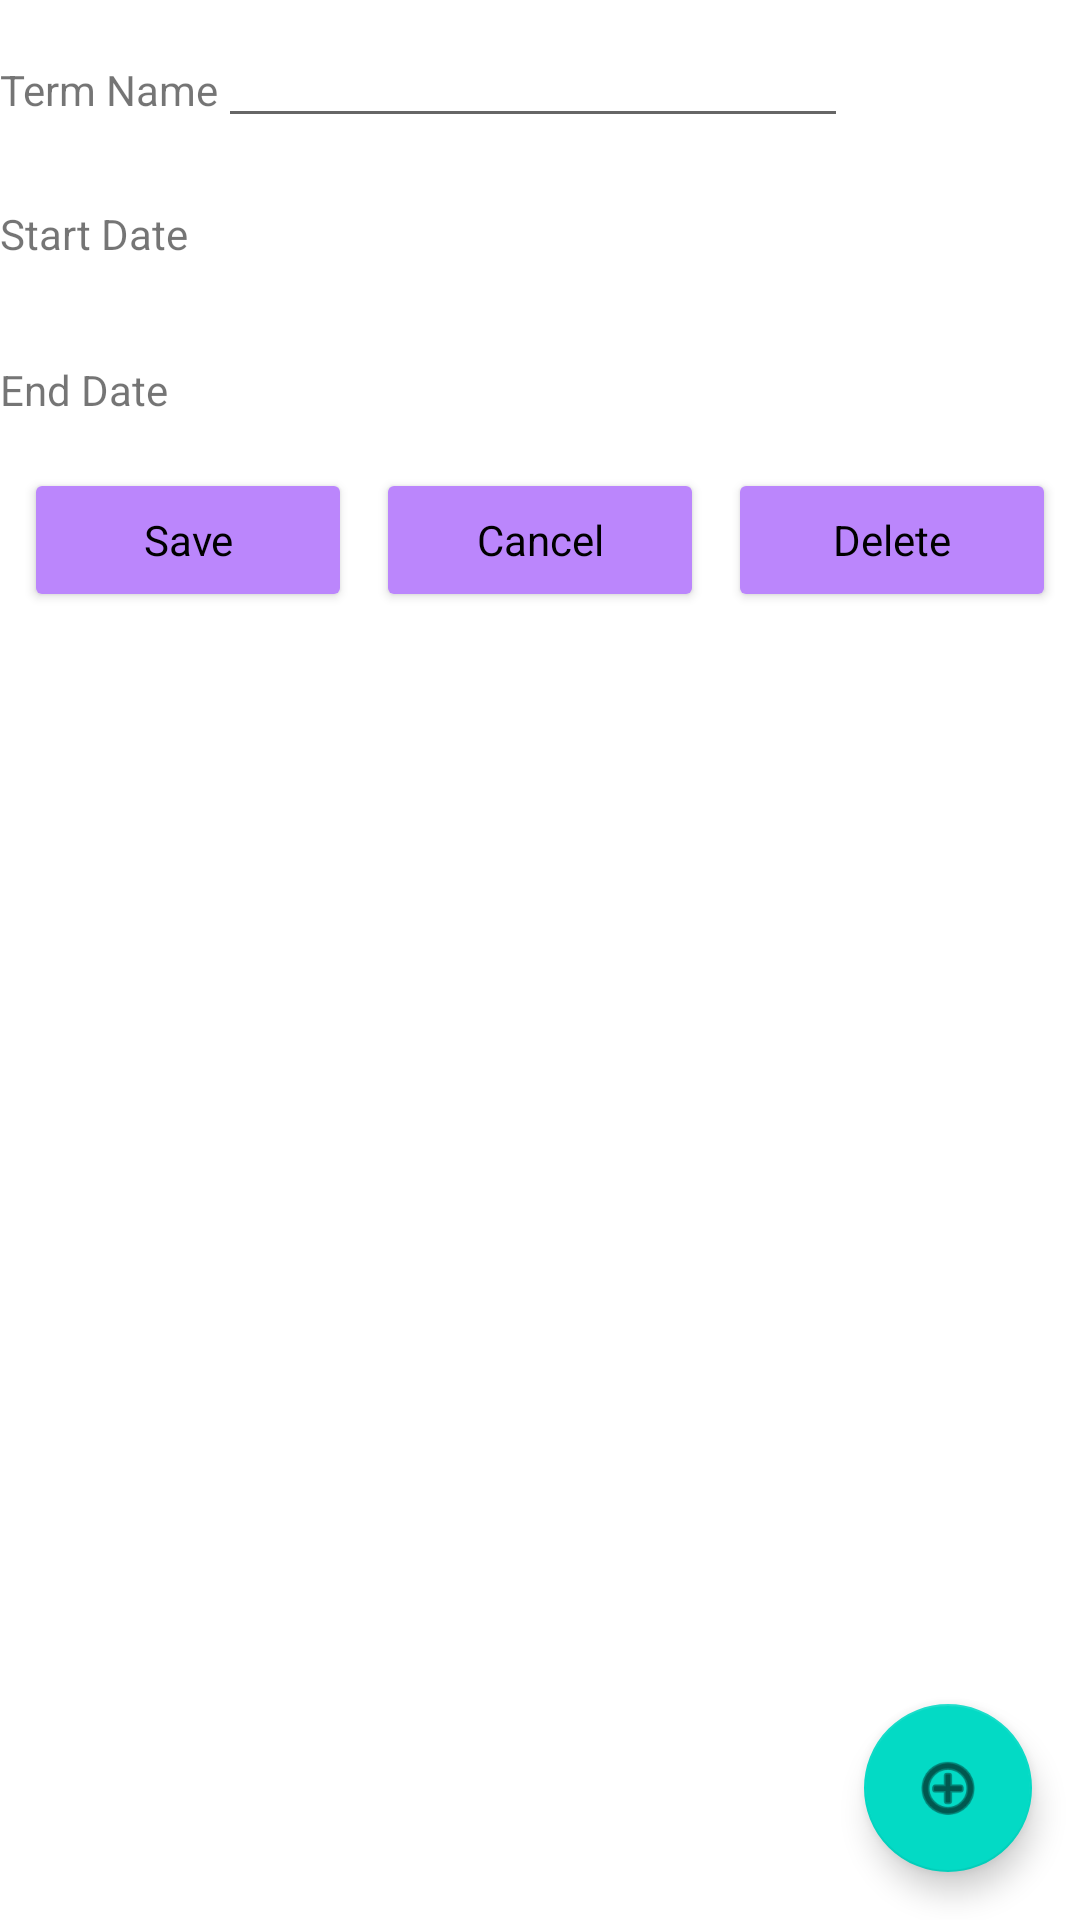

Icons on this 1080w x 1920h Android screen, each with its box as box=[x1, y1, x2, y2]:
Add Button: box=[864, 1704, 1032, 1872]
